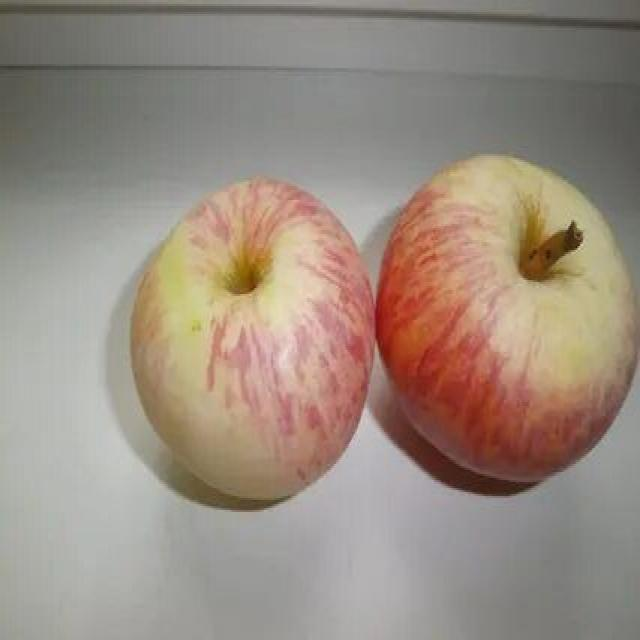Fresh Apple: (376, 173, 640, 461), (152, 192, 362, 492)
